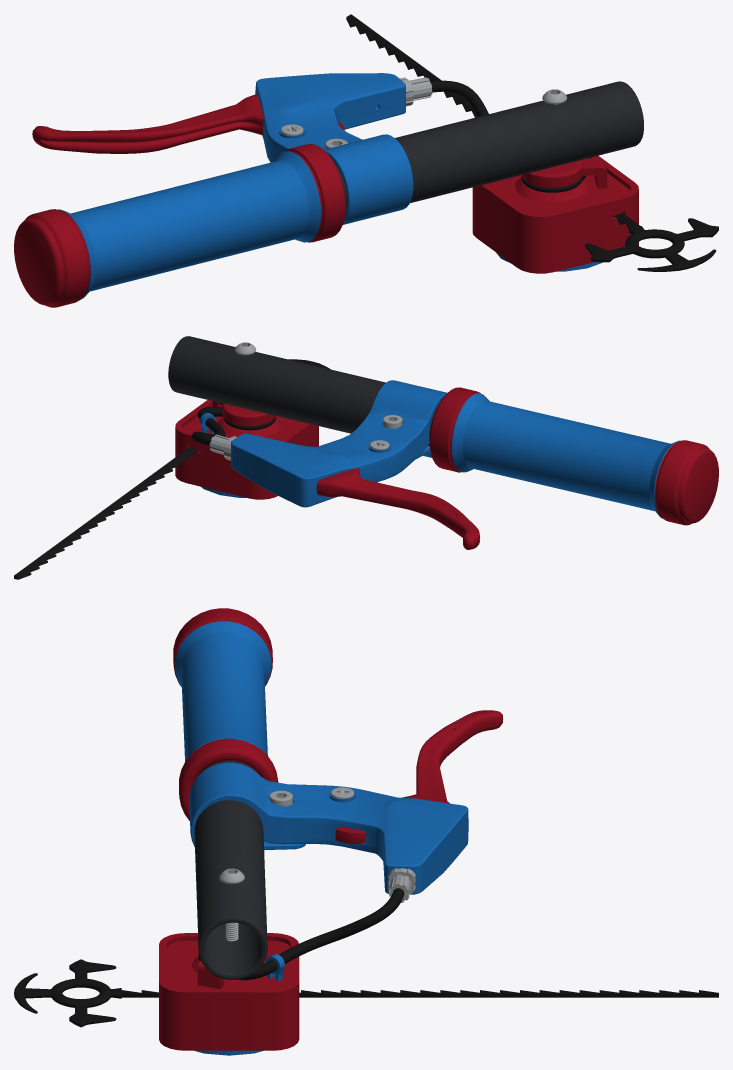
File: Lancador Basic.gltf
3 renders of one model, top to bottom at view 1: azimuth 30°, elevation 25°; view 2: azimuth 150°, elevation 25°; view 3: azimuth 270°, elevation 25°, orthographic. The views are drawn at different scales.
Visible parts, largest first — view 1: Guidao.001, Guidao, Circle.002, Sup.002, Cabo.001, Cube.002, Cube.003, BezierCurve, Gear.001; view 2: Guidao.001, Guidao, Circle.002, Sup.002, Cabo.001, Cube.003, BezierCurve, Gear.001; view 3: Circle.002, Guidao.001, Sup.002, Guidao, Cabo.001, Cube.003, Cube.002, BezierCurve.
Part boxes in pixels (left/top/right/bottom): Guidao.001: left=14, top=144, right=345, bottom=307; Guidao: left=334, top=81, right=643, bottom=211; Circle.002: left=255, top=73, right=413, bottom=224; Sup.002: left=472, top=155, right=638, bottom=273; Cabo.001: left=32, top=94, right=263, bottom=153; Cube.002: left=585, top=218, right=718, bottom=271; Cube.003: left=346, top=14, right=639, bottom=230; BezierCurve: left=430, top=80, right=589, bottom=180; Gear.001: left=399, top=77, right=432, bottom=106; Guidao.001: left=429, top=387, right=718, bottom=525; Guidao: left=168, top=336, right=438, bottom=445; Circle.002: left=231, top=380, right=447, bottom=507; Sup.002: left=175, top=400, right=318, bottom=499; Cabo.001: left=316, top=468, right=480, bottom=549; Cube.003: left=14, top=447, right=197, bottom=579; BezierCurve: left=192, top=407, right=225, bottom=445; Gear.001: left=209, top=434, right=237, bottom=460; Circle.002: left=189, top=762, right=468, bottom=894; Guidao.001: left=173, top=608, right=278, bottom=820; Sup.002: left=159, top=933, right=299, bottom=1055; Guidao: left=194, top=760, right=267, bottom=979; Cabo.001: left=402, top=710, right=503, bottom=803; Cube.003: left=121, top=990, right=718, bottom=997; Cube.002: left=14, top=959, right=121, bottom=1027; BezierCurve: left=237, top=888, right=404, bottom=980.
Size of the model in its own units: 1.9 by 0.5009 by 1.83.
